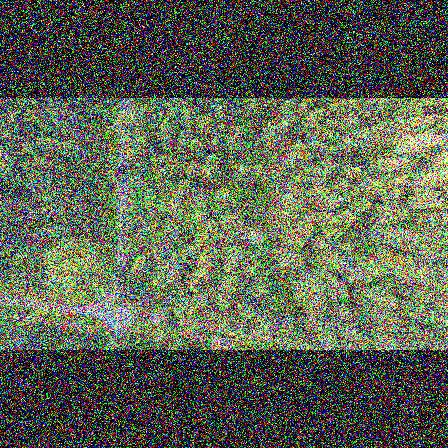Sick: (248, 228, 268, 247), (277, 207, 297, 226), (339, 131, 359, 150), (231, 223, 247, 240), (165, 198, 182, 214), (162, 258, 180, 272), (340, 256, 354, 273), (134, 228, 147, 241), (220, 232, 232, 245)
